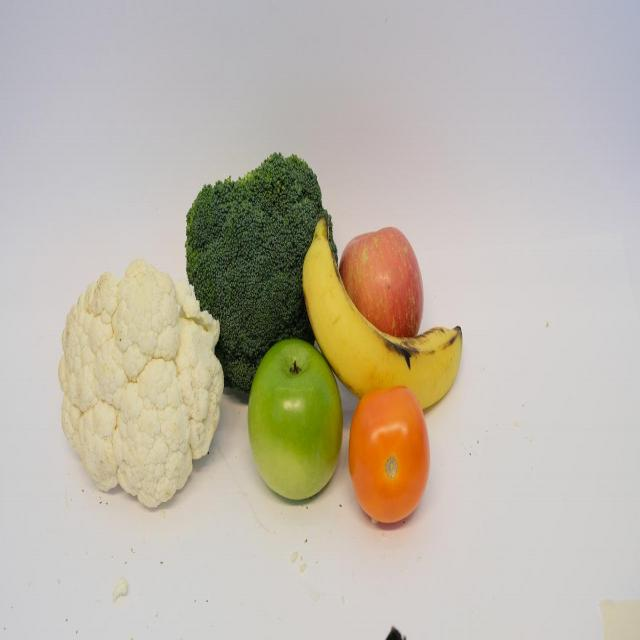apple: (250, 338, 344, 498), (341, 232, 425, 342)
banana: (299, 231, 466, 427)
broccoli: (183, 146, 336, 405)
cauliflower: (64, 264, 226, 513)
tomato: (352, 382, 431, 530)
